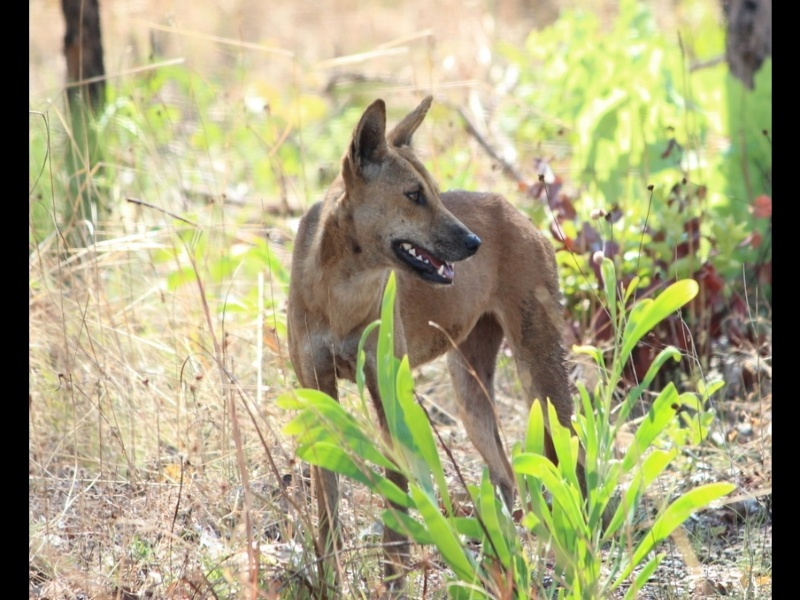dog: (278, 94, 594, 600)
